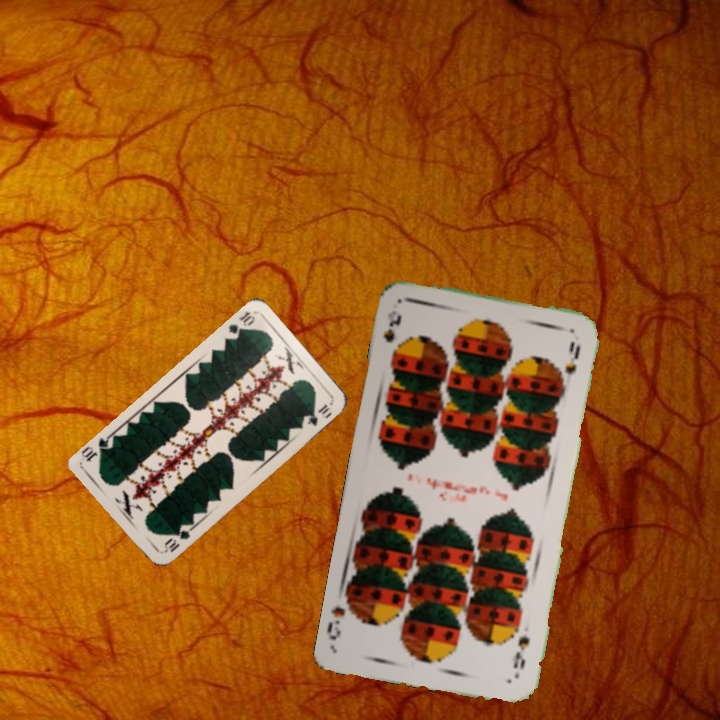G10: (160, 520, 194, 555), (224, 307, 258, 338)
S9: (379, 306, 405, 362), (508, 631, 533, 673)
